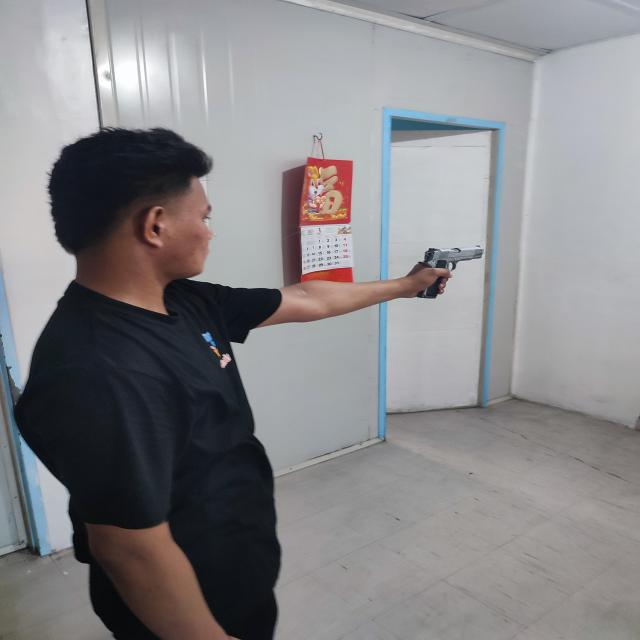pistol: (416, 245, 484, 298)
